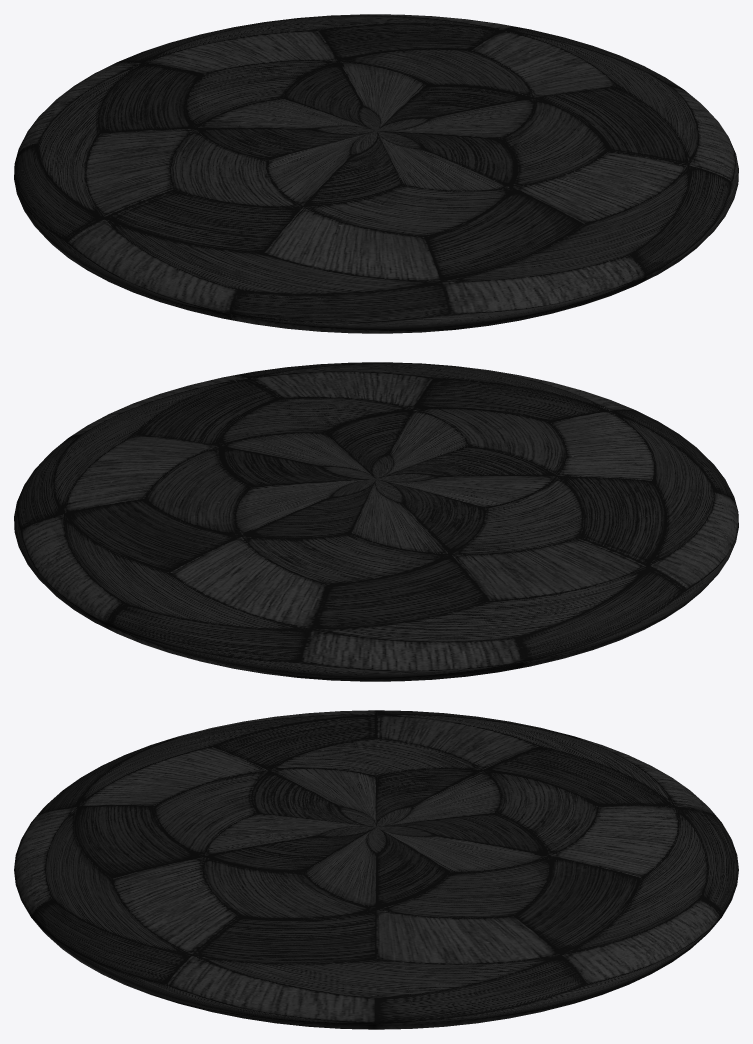
The model's file is DiscDarkestGrey.glb.
3 renders of one model, top to bottom at view 1: azimuth 30°, elevation 25°; view 2: azimuth 150°, elevation 25°; view 3: azimuth 270°, elevation 25°, orthographic.
Visible parts, largest first — view 1: Sphere; view 2: Sphere; view 3: Sphere.
Part boxes in pixels (bbox=[...]): Sphere: bbox=[14, 14, 738, 333]; Sphere: bbox=[14, 362, 738, 681]; Sphere: bbox=[14, 710, 738, 1029].
Bounding box in the file's own units: 2 × 0.2604 × 2.
1 material, 1 textured.
